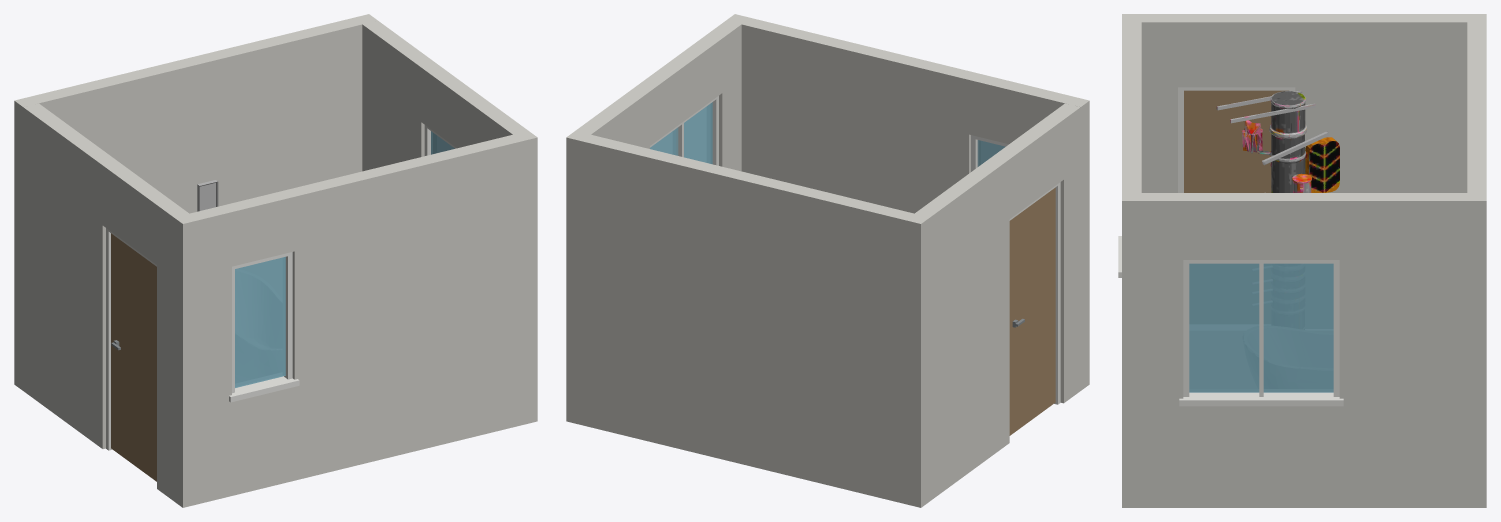
Rendered from holodeck.glb.
3 views of the same model, side by side, from view 1: azimuth 30°, elevation 25°; view 2: azimuth 150°, elevation 25°; view 3: azimuth 270°, elevation 25° (orthographic). The views are drawn at different scales.
Visible parts, largest first — view 1: wall|scenesmith_060__R00|0, wall|scenesmith_060__R00|1, wall|scenesmith_060__R00|2, wall|scenesmith_060__R00|3, wall|scenesmith_060__R00|2 Door 0 | wood leaf, wall|scenesmith_060__R00|0 Window 0 | glazing, wall|scenesmith_060__R00|0 Window 0 | jamb, wall|scenesmith_060__R00|2 Door 0 | jamb, scenesmith_060__R00_2; view 2: wall|scenesmith_060__R00|1, wall|scenesmith_060__R00|0, wall|scenesmith_060__R00|2, wall|scenesmith_060__R00|3, wall|scenesmith_060__R00|2 Door 0 | wood leaf, wall|scenesmith_060__R00|3 Window 0 | glazing, wall|scenesmith_060__R00|2 Door 0 | jamb, wall|scenesmith_060__R00|3 Window 0 | jamb; view 3: wall|scenesmith_060__R00|3, wall|scenesmith_060__R00|2, wall|scenesmith_060__R00|3 Window 0 | glazing, wall|scenesmith_060__R00|1, wall|scenesmith_060__R00|0, wall|scenesmith_060__R00|2 Door 0 | wood leaf, scenesmith_060__R00_1, wall|scenesmith_060__R00|3 Window 0 | jamb, wall|scenesmith_060__R00|2 Door 0 | jamb.
Boxes of the visible parts, x1,y1,x2,y2 form: wall|scenesmith_060__R00|0: (174,135,521,507); wall|scenesmith_060__R00|1: (14,14,377,390); wall|scenesmith_060__R00|2: (23,103,198,507); wall|scenesmith_060__R00|3: (362,20,537,424); wall|scenesmith_060__R00|2 Door 0 | wood leaf: (111,233,156,481); wall|scenesmith_060__R00|0 Window 0 | glazing: (235,256,285,387); wall|scenesmith_060__R00|0 Window 0 | jamb: (229,252,299,402); wall|scenesmith_060__R00|2 Door 0 | jamb: (106,228,156,450); scenesmith_060__R00_2: (197,180,218,211); wall|scenesmith_060__R00|1: (566,131,929,507); wall|scenesmith_060__R00|0: (741,18,1089,390); wall|scenesmith_060__R00|2: (905,103,1080,507); wall|scenesmith_060__R00|3: (575,14,750,171); wall|scenesmith_060__R00|2 Door 0 | wood leaf: (1009,187,1055,435); wall|scenesmith_060__R00|3 Window 0 | glazing: (650,102,712,164); wall|scenesmith_060__R00|2 Door 0 | jamb: (1009,182,1060,404); wall|scenesmith_060__R00|3 Window 0 | jamb: (650,96,718,165); wall|scenesmith_060__R00|3: (1122,193,1467,507); wall|scenesmith_060__R00|2: (1141,14,1467,192); wall|scenesmith_060__R00|3 Window 0 | glazing: (1189,263,1333,392); wall|scenesmith_060__R00|1: (1467,14,1486,507); wall|scenesmith_060__R00|0: (1122,14,1141,507); wall|scenesmith_060__R00|2 Door 0 | wood leaf: (1184,90,1288,192); scenesmith_060__R00_1: (1216,90,1339,192); wall|scenesmith_060__R00|3 Window 0 | jamb: (1179,260,1343,406); wall|scenesmith_060__R00|2 Door 0 | jamb: (1178,87,1295,192).
Size of the model in its own units: 3.43 by 2.61 by 2.83.
Materials: 9 (3 with a texture image).
